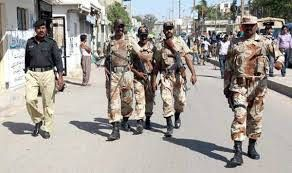gun: (163, 37, 190, 88), (129, 48, 149, 93), (100, 48, 117, 88)
uniform: (228, 31, 274, 150), (26, 36, 56, 124), (161, 36, 187, 134), (112, 38, 135, 132), (138, 40, 155, 125)
